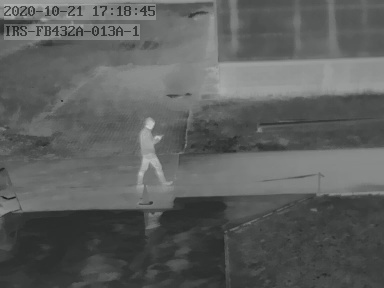person: (138, 118, 169, 187)
